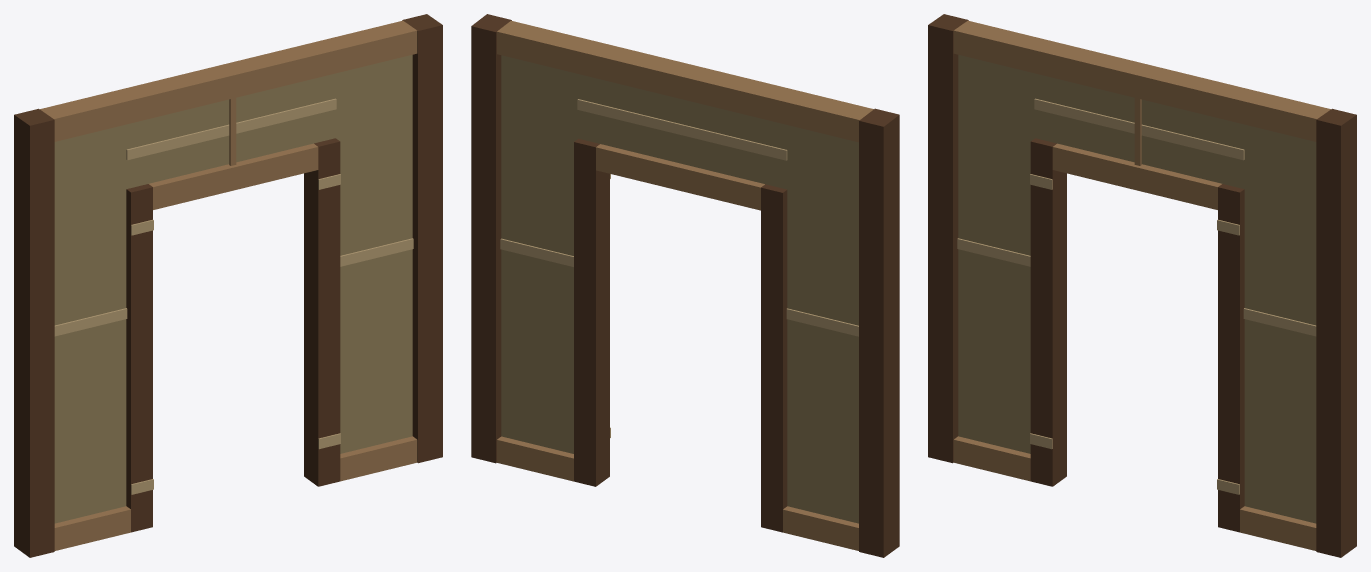
File: wall_door_lod1.glb
The picture shows the model from 3 angles, left to right: view 1: azimuth 30°, elevation 25°; view 2: azimuth 150°, elevation 25°; view 3: azimuth 330°, elevation 25°; orthographic projection.
Parts seen in each view (by area): view 1: wall_door_mesh; view 2: wall_door_mesh; view 3: wall_door_mesh.
Boxes of the visible parts, x1,y1,x2,y2 form: wall_door_mesh: (14, 14, 442, 557); wall_door_mesh: (471, 14, 899, 557); wall_door_mesh: (928, 14, 1356, 557).
Size of the model in its own units: 3 by 3 by 0.2.
